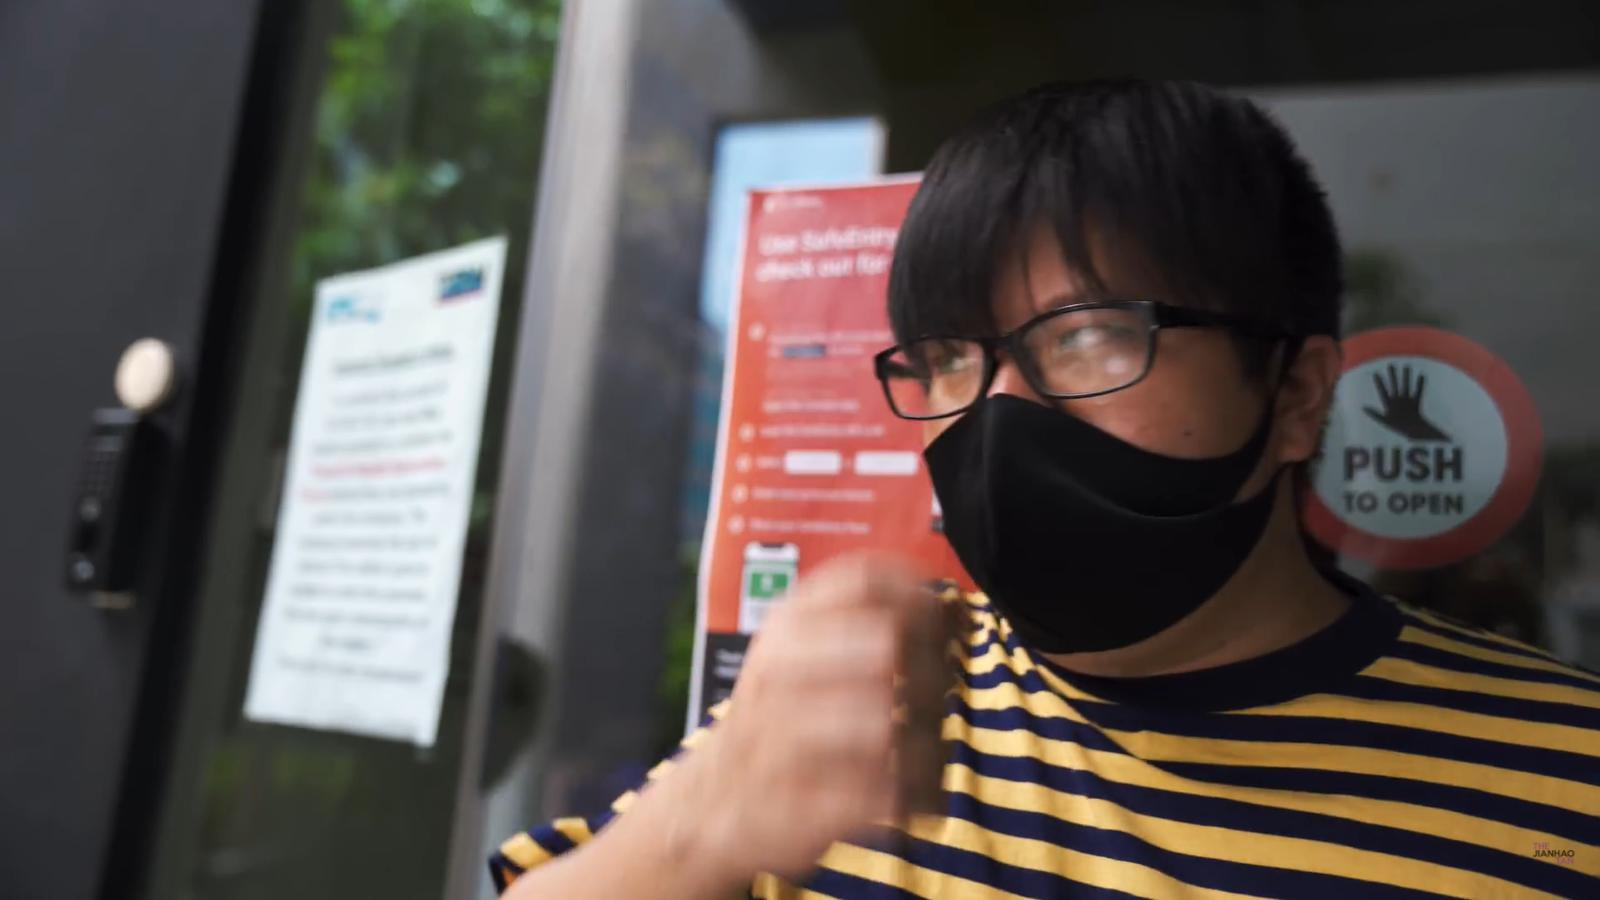with_mask: (955, 289, 1190, 565)
